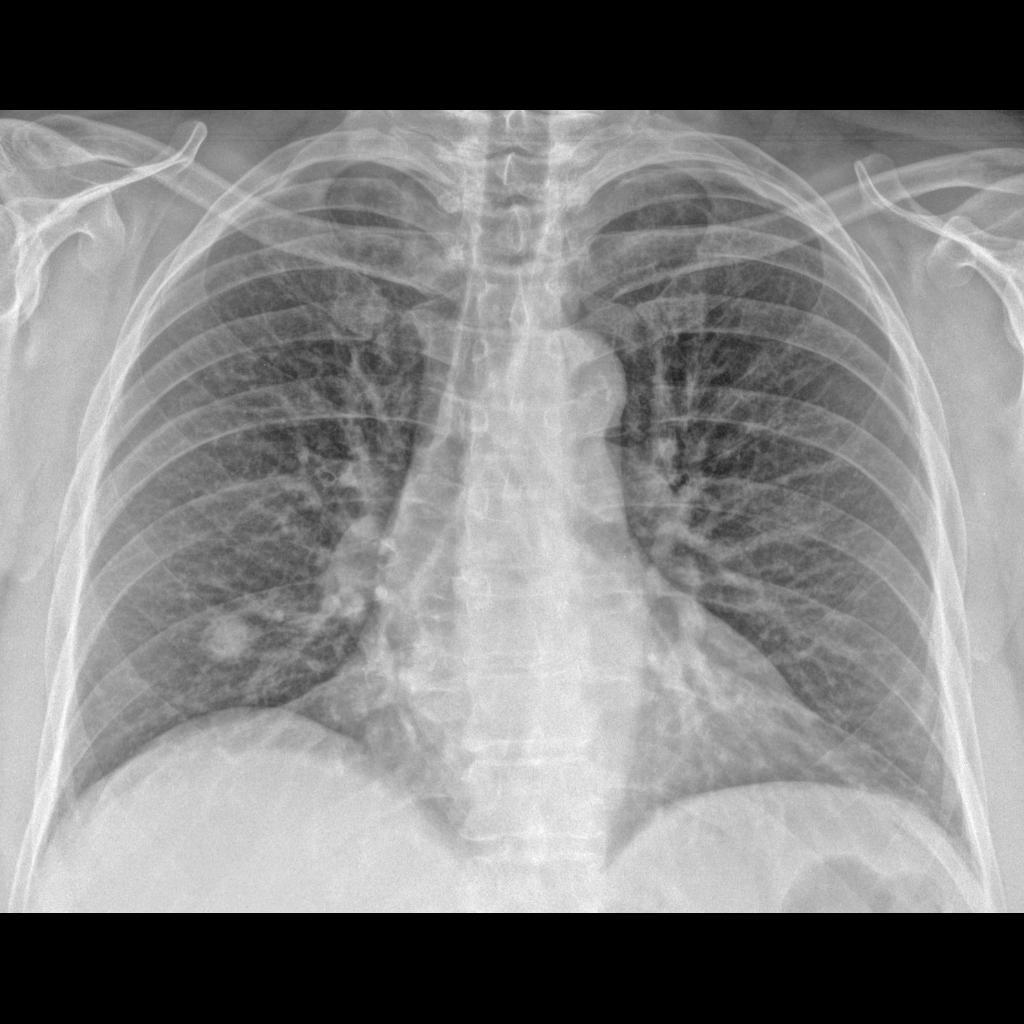Nodule: (192, 611, 260, 670)
